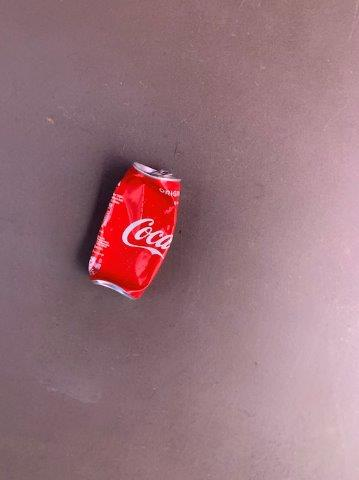kaleng: (89, 163, 181, 300)
